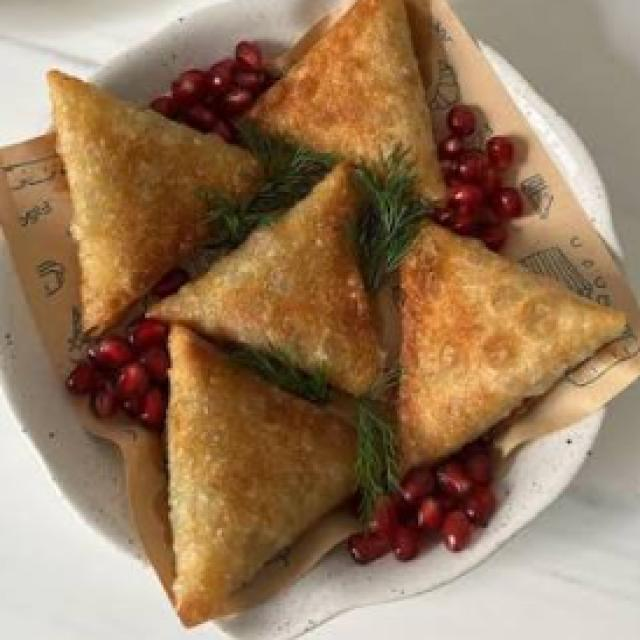Samboosa: (28, 9, 631, 618)
